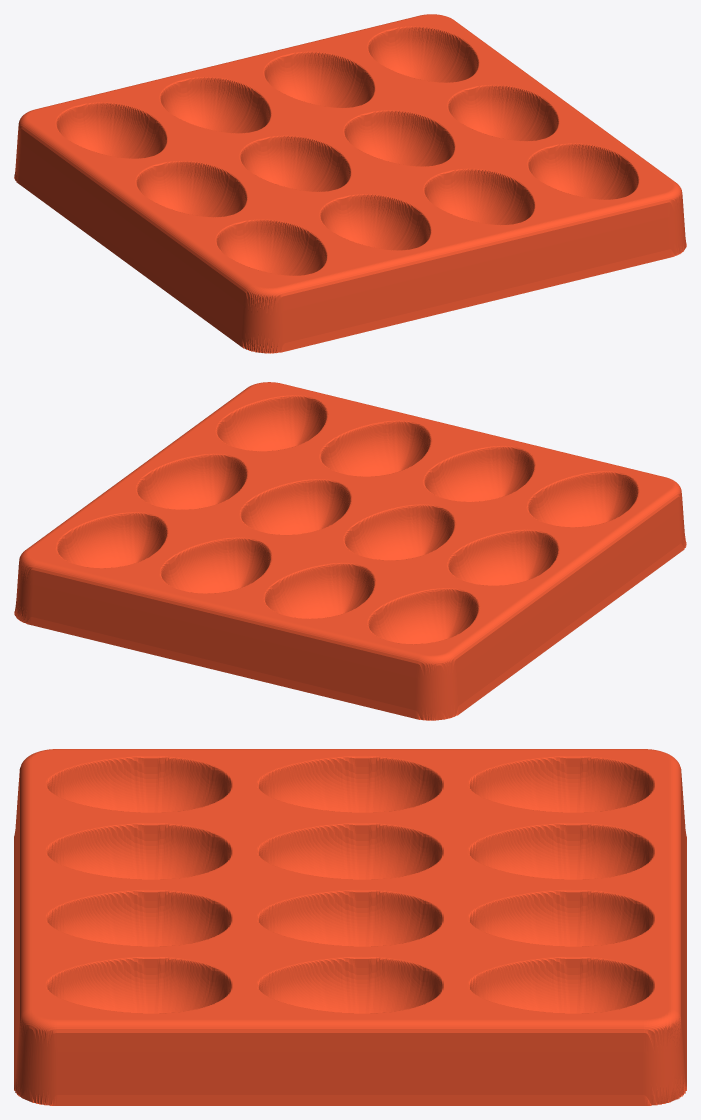
Rendered from mold.glb.
3 renders of one model, top to bottom at view 1: azimuth 30°, elevation 25°; view 2: azimuth 150°, elevation 25°; view 3: azimuth 270°, elevation 25°, orthographic. The views are drawn at different scales.
Parts seen in each view (by area): view 1: geometry_0; view 2: geometry_0; view 3: geometry_0.
Boxes of the visible parts, box(x1,y1,x2,y2) form: geometry_0: box(14, 14, 686, 353); geometry_0: box(14, 382, 686, 720); geometry_0: box(14, 749, 686, 1105).
Size of the model in its own units: 0.141 by 0.0182 by 0.141.
